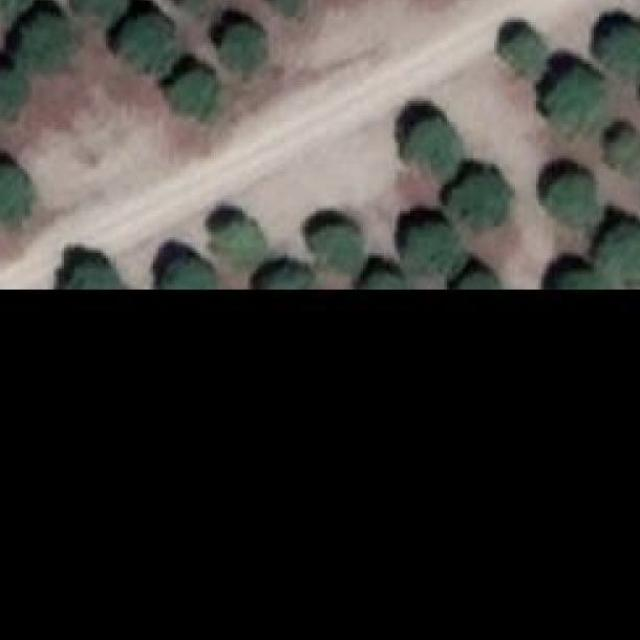Tree: (122, 14, 174, 78), (450, 178, 508, 225), (405, 120, 457, 172), (216, 219, 263, 275), (17, 20, 67, 72), (405, 226, 461, 272), (552, 69, 599, 122), (311, 224, 363, 270), (547, 180, 599, 224), (594, 232, 640, 279), (174, 72, 219, 120), (541, 256, 597, 291), (599, 26, 640, 72), (256, 258, 314, 290), (224, 25, 264, 70), (0, 168, 30, 221), (164, 258, 216, 288), (64, 264, 125, 288), (445, 262, 500, 288), (508, 30, 542, 70), (611, 127, 640, 172), (353, 264, 405, 288), (0, 70, 24, 116), (77, 0, 127, 22), (0, 0, 33, 17), (274, 0, 305, 17), (181, 0, 211, 15)
